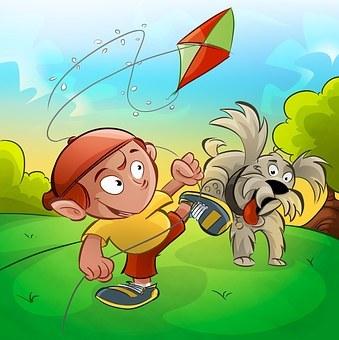dog: (193, 97, 321, 276)
person: (37, 124, 225, 304)
